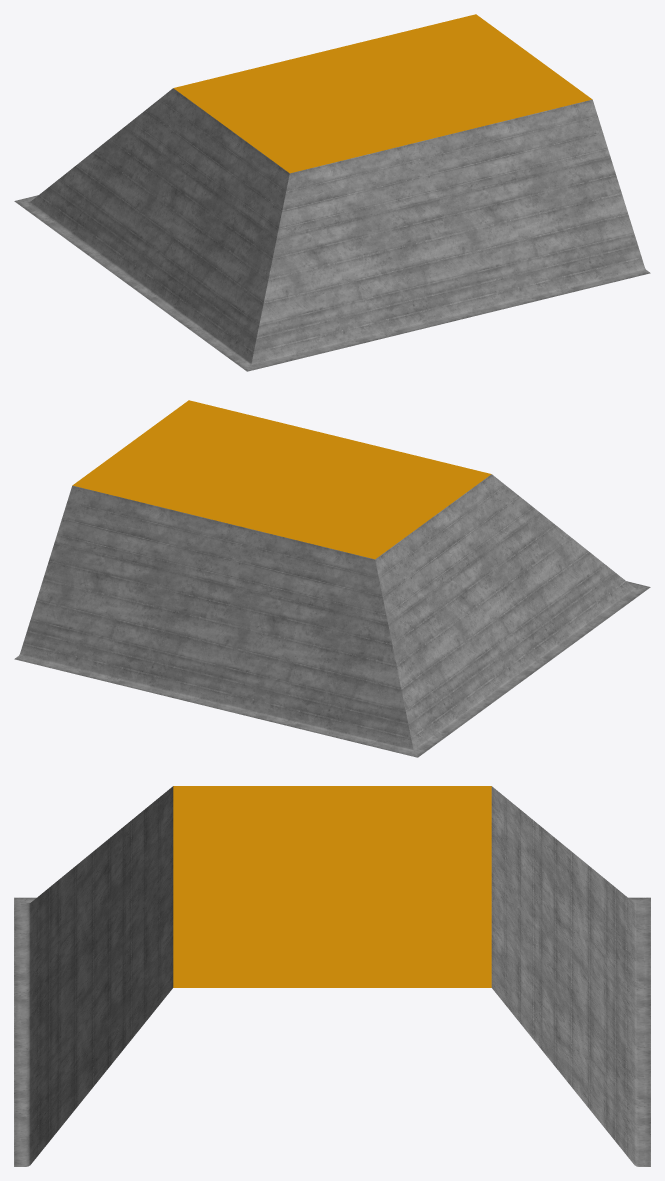
File: SM_Ceiling_26.fbx
The picture shows the model from 3 angles, top to bottom: view 1: azimuth 30°, elevation 25°; view 2: azimuth 150°, elevation 25°; view 3: azimuth 270°, elevation 25°; orthographic projection. The views are drawn at different scales.
Parts seen in each view (by area): view 1: SM_Ceiling_26; view 2: SM_Ceiling_26; view 3: SM_Ceiling_26.
Part boxes in pixels (bbox=[...]): SM_Ceiling_26: bbox=[14, 14, 650, 371]; SM_Ceiling_26: bbox=[14, 400, 650, 757]; SM_Ceiling_26: bbox=[14, 786, 650, 1166].
Size of the model in its own units: 400 by 124 by 400.
